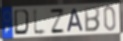0: (103, 5, 117, 32)
A: (66, 7, 84, 33)
B: (84, 6, 101, 33)
D: (13, 9, 32, 37)
L: (32, 7, 48, 37)
Z: (49, 9, 66, 35)
